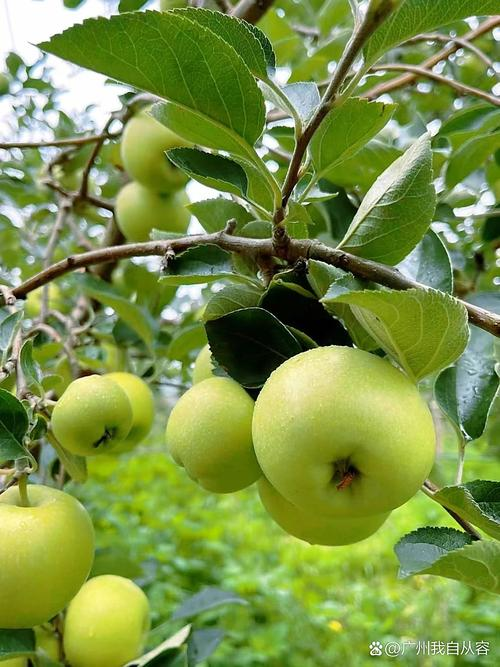unripe: (248, 342, 442, 522), (0, 458, 100, 630), (158, 364, 265, 502), (56, 570, 158, 667), (117, 95, 208, 194), (39, 368, 133, 461), (105, 180, 202, 245)
